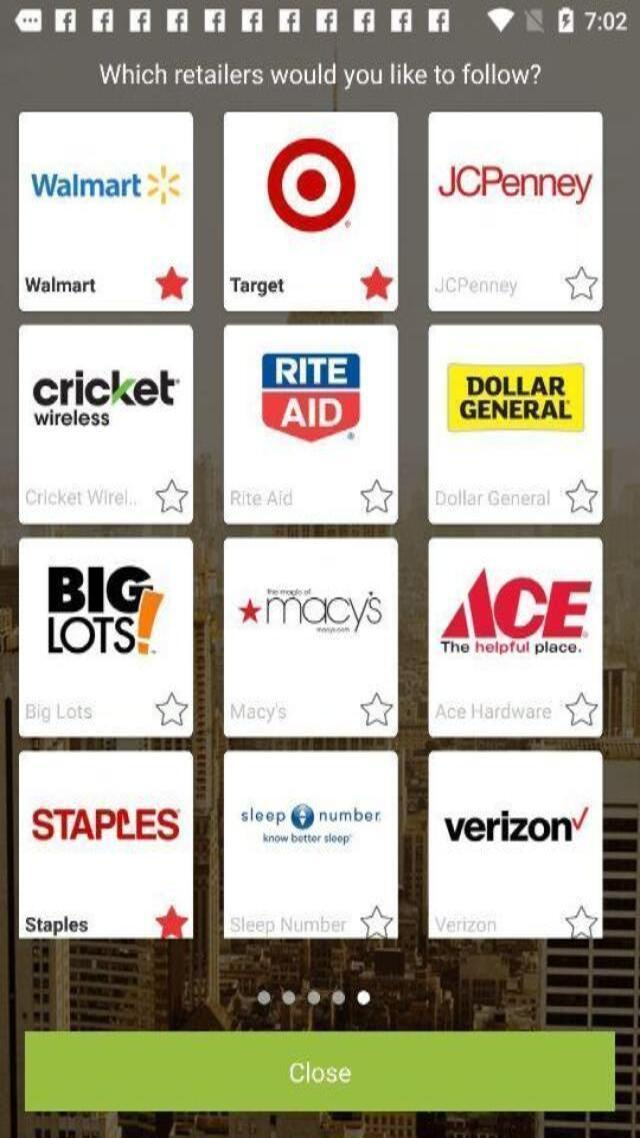Icon: (147, 684, 190, 731), (152, 256, 189, 302), (358, 260, 396, 304), (352, 904, 398, 940), (560, 476, 600, 517), (153, 474, 190, 518), (352, 478, 394, 516), (151, 901, 191, 940), (559, 904, 602, 940), (562, 264, 599, 305), (562, 689, 598, 731), (357, 691, 394, 730), (482, 3, 518, 38), (13, 7, 42, 34), (52, 8, 78, 35), (202, 8, 228, 34), (524, 9, 546, 39), (89, 7, 114, 33), (130, 7, 154, 34), (428, 9, 451, 35), (556, 8, 575, 38), (166, 7, 188, 32), (316, 8, 338, 32), (242, 7, 264, 30), (280, 9, 302, 32), (390, 8, 412, 30), (354, 8, 374, 32)
Image: (32, 556, 176, 666), (437, 567, 596, 662), (244, 345, 378, 451), (441, 355, 591, 443), (26, 358, 184, 435), (230, 569, 392, 638), (23, 156, 185, 212), (266, 140, 356, 238), (434, 798, 594, 853), (438, 155, 596, 210), (26, 800, 183, 851), (234, 802, 388, 852)
Text: (94, 59, 548, 98), (429, 480, 556, 514), (21, 480, 136, 514), (429, 698, 556, 728), (228, 908, 350, 937), (432, 271, 524, 304), (24, 267, 106, 302), (224, 480, 300, 514), (20, 906, 100, 936), (428, 908, 507, 937), (20, 698, 101, 726), (227, 268, 292, 302), (224, 695, 292, 726), (284, 1058, 354, 1087)
TextButton: (22, 1032, 618, 1110), (17, 108, 196, 314), (427, 322, 606, 526), (222, 110, 400, 313), (17, 324, 195, 524), (224, 322, 400, 524), (20, 538, 194, 738), (430, 114, 603, 314), (430, 537, 602, 738), (221, 539, 396, 734), (18, 749, 196, 940), (221, 750, 400, 939), (429, 749, 603, 940)
